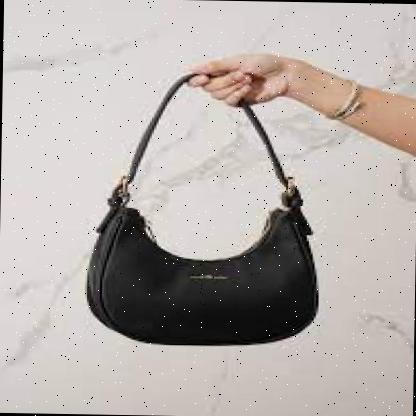bag: (76, 58, 328, 352)
